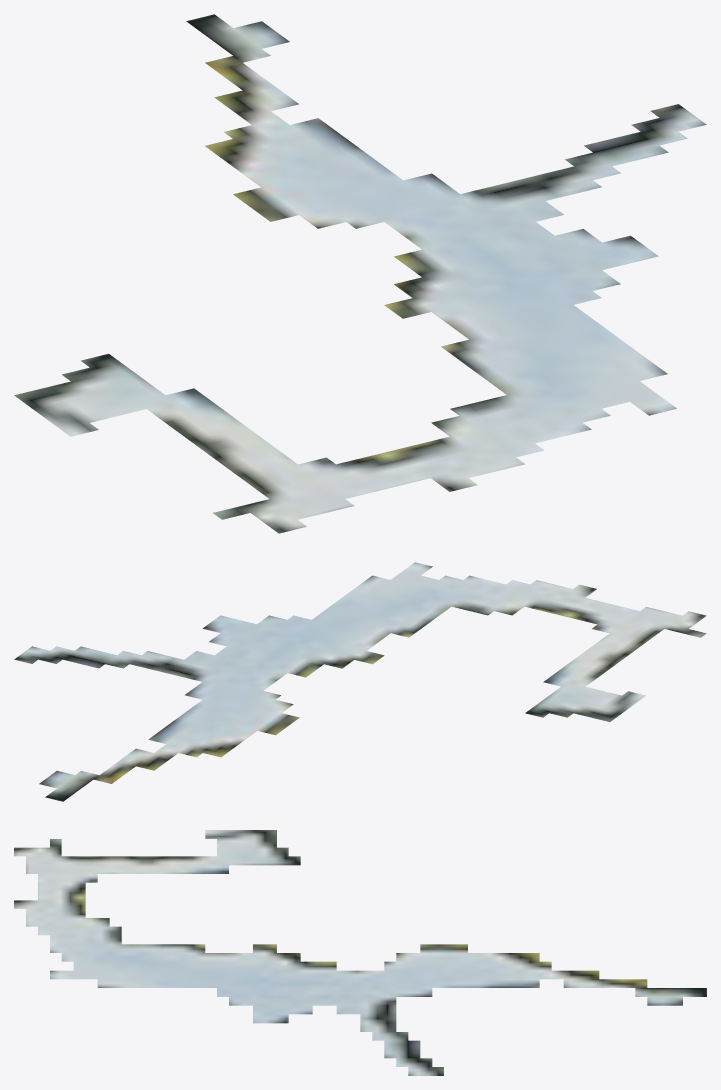
Rendered from baltic-sea.gltf.
The picture shows the model from 3 angles, top to bottom: view 1: azimuth 30°, elevation 25°; view 2: azimuth 150°, elevation 25°; view 3: azimuth 270°, elevation 25°; orthographic projection. The views are drawn at different scales.
Visible parts, largest first — view 1: Plane; view 2: Plane; view 3: Plane.
Boxes of the visible parts, <box> form: Plane: <box>14,14,706,533</box>; Plane: <box>14,562,706,801</box>; Plane: <box>14,830,706,1075</box>.
Bounding box in the file's own units: 0.2764 × 0 × 0.3294.
1 material, 1 textured.
